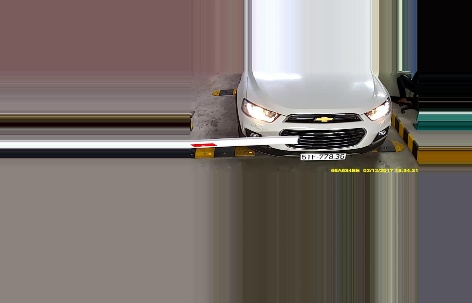plate: (297, 146, 345, 162)
